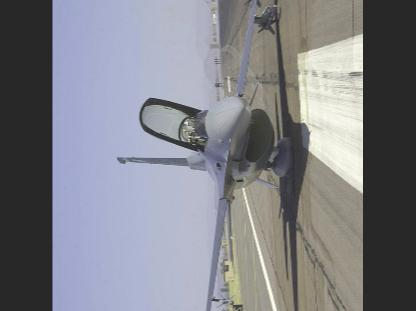F14: (115, 0, 295, 310)
